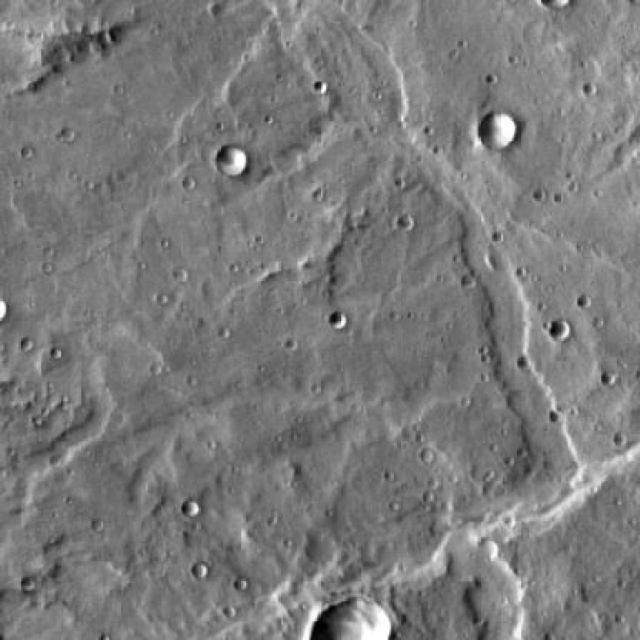crater: (312, 592, 394, 640), (477, 104, 520, 147), (217, 145, 249, 178), (547, 318, 571, 342), (398, 215, 417, 233), (184, 502, 202, 520), (192, 560, 208, 578), (332, 316, 348, 332), (458, 276, 473, 292), (0, 302, 8, 328)
